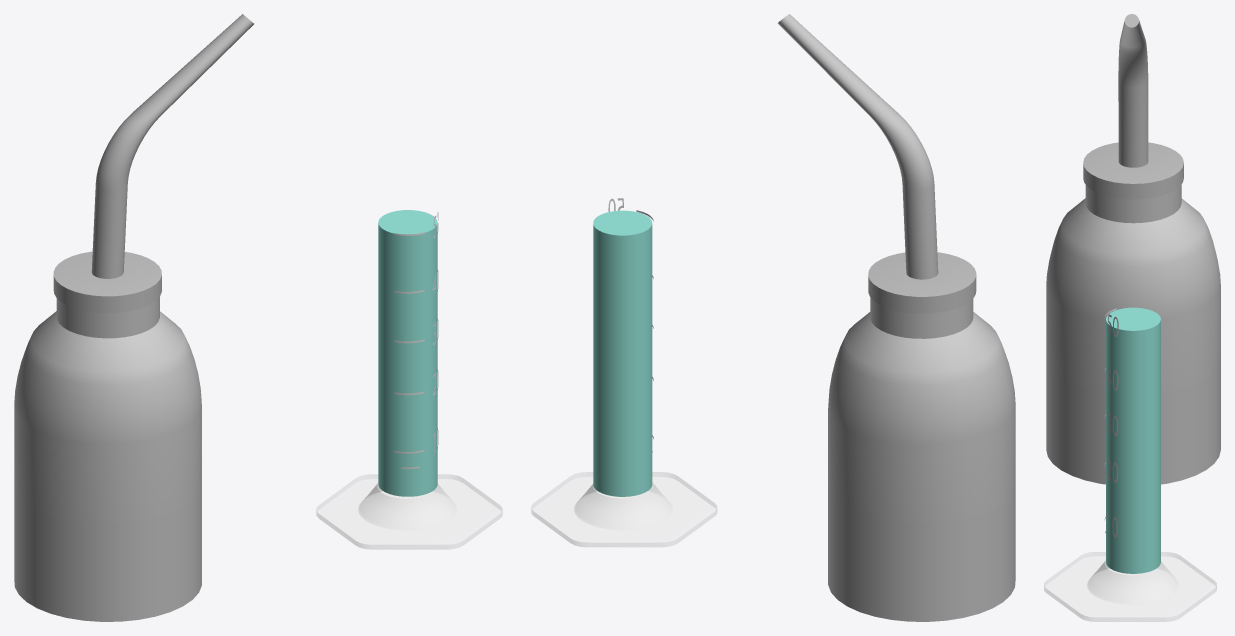
Rendered from Aquades + tabung ukur 50ml.fbx.
The picture shows the model from 3 angles, left to right: view 1: azimuth 30°, elevation 25°; view 2: azimuth 150°, elevation 25°; view 3: azimuth 270°, elevation 25°; orthographic projection. The views are drawn at different scales.
Visible parts, largest first — view 1: Cylinder.001, Tabung ukur.001, Cylinder.002, Tabung ukur; view 2: Cylinder.001, Tabung ukur.001, Cylinder.002, Tabung ukur; view 3: Cylinder.001, Tabung ukur.001, Tabung ukur, Cylinder.002.
Boxes of the visible parts, <box> form: Cylinder.001: <box>14,297,201,621</box>; Tabung ukur.001: <box>378,210,437,496</box>; Cylinder.002: <box>53,14,253,313</box>; Tabung ukur: <box>316,212,502,549</box>; Cylinder.001: <box>828,297,1015,621</box>; Tabung ukur.001: <box>593,210,652,496</box>; Cylinder.002: <box>777,14,976,313</box>; Tabung ukur: <box>531,198,717,547</box>; Cylinder.001: <box>1046,185,1220,484</box>; Tabung ukur.001: <box>1106,307,1160,573</box>; Tabung ukur: <box>1044,308,1216,621</box>; Cylinder.002: <box>1083,14,1183,199</box>.
Size of the model in its own units: 16.12 by 18.33 by 5.87.
